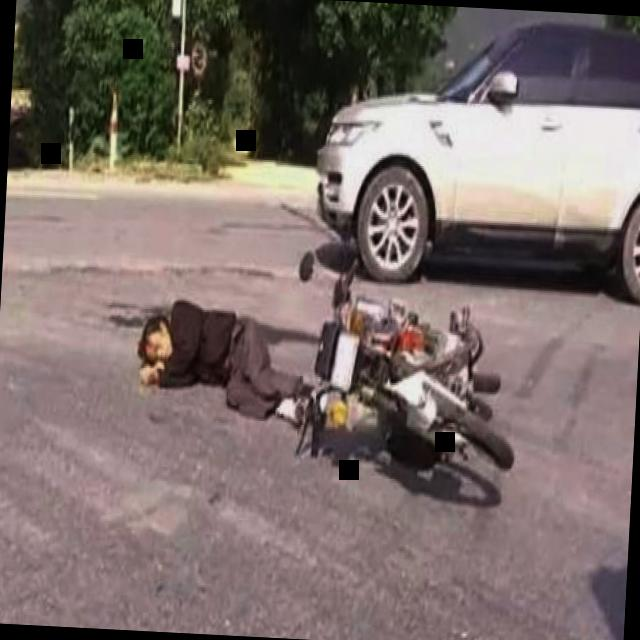Fall-Detected: (122, 286, 321, 422)
